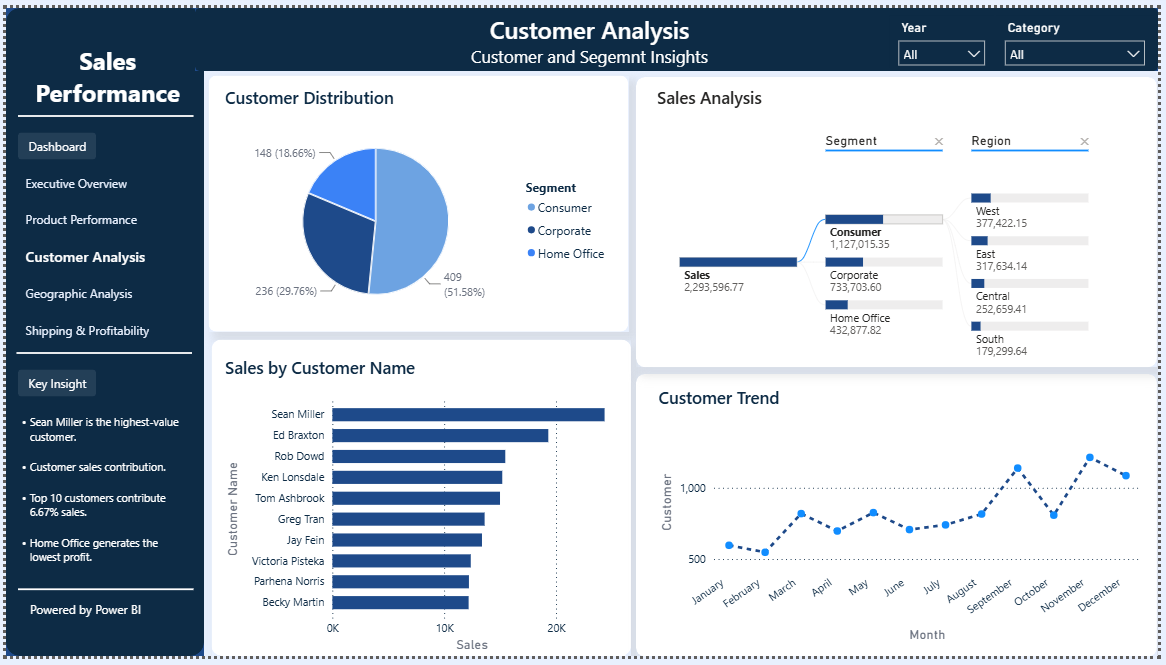

What the dashboard file says about the page in this screenshot:
{"tool":"powerbi","page":{"name":"Customer Analysis","canvas":[1280,720],"ordinal":2},"visuals":[{"type":"shape","box":[0,0,220,720],"z":0},{"type":"shape","box":[225.6,75.7,466.4,284.7],"z":1000},{"type":"shape","box":[227.5,368.8,466.2,351.2],"z":2000},{"type":"shape","box":[700,406.2,578.8,313.8],"z":3000},{"type":"shape","box":[700,76.2,578.8,322.5],"z":4000},{"type":"shape","box":[210,0,1070,70],"z":5000},{"type":"pieChart","title":"Customer Distribution","fields":{"Y":["Count(Sample___Superstore.Customer ID)"],"Category":["Sample___Superstore.Segment"]},"box":[237.5,86.2,441.2,265],"z":6000},{"type":"clusteredBarChart","fields":{"Category":["Sample___Superstore.Customer Name"],"Y":["Sum(Sample___Superstore.Sales)"]},"box":[237.7,386.1,449.7,333.1],"z":7000},{"type":"decompositionTreeVisual","title":"Sales Analysis","fields":{"Analyze":["Sum(Sample___Superstore.Sales)"],"ExplainBy":["Sample___Superstore.Segment","Sample___Superstore.Region"]},"box":[718.8,86.2,556.2,350],"z":8000},{"type":"areaChart","title":"Customer Trend","fields":{"Y":["CountNonNull(Sample___Superstore.Customer ID)"],"Category":["Sample___Superstore.ad_date.Variation.Date Hierarchy.Month"]},"box":[719.2,419.4,545.1,289.2],"z":9000},{"type":"pageNavigator","box":[21.7,178.3,180,195],"z":10000},{"type":"textbox","box":[3.1,34.6,219.2,88.5],"z":11000},{"type":"textbox","box":[21.7,653.3,170,35],"z":12000},{"type":"shape","box":[12.5,110.8,195,16.7],"z":13000},{"type":"shape","box":[13.3,630,195,31.7],"z":14000},{"type":"textbox","box":[393.3,0,510,70],"z":15000},{"type":"slicer","fields":{"Values":["Sample___Superstore.Category"]},"box":[1100,7.5,175,58.8],"z":16000},{"type":"slicer","fields":{"Values":["Sample___Superstore.ad_date.Variation.Date Hierarchy.Year"]},"box":[981.2,7.6,116.6,59.1],"z":17000},{"type":"textbox","box":[15.8,137.5,80.8,30],"z":18000},{"type":"textbox","box":[15.8,400.8,80.8,30],"z":19000},{"type":"textbox","box":[2.9,447.1,207.1,182.9],"z":20000},{"type":"shape","box":[12.5,138.3,86.7,30],"z":21000},{"type":"shape","box":[13.3,401.7,86.7,30],"z":22000},{"type":"shape","box":[11.7,368.3,195,30],"z":23000}]}

Visuals, with their boxes in screenshot pixels (x1, y1, x2, y2), scaled from the page's 1280x720 canvas onto the 1166x665 screenshot:
shape: rect(0, 0, 200, 664)
shape: rect(206, 70, 630, 333)
shape: rect(207, 341, 632, 664)
shape: rect(638, 375, 1165, 664)
shape: rect(638, 70, 1165, 368)
shape: rect(191, 0, 1165, 65)
"Customer Distribution" pieChart: rect(216, 80, 618, 324)
clusteredBarChart - Sample___Superstore.Customer Name x Sum(Sample___Superstore.Sales): rect(217, 357, 626, 664)
"Sales Analysis" decompositionTreeVisual: rect(655, 80, 1161, 403)
"Customer Trend" areaChart: rect(655, 387, 1152, 654)
pageNavigator: rect(20, 165, 184, 345)
textbox: rect(3, 32, 203, 114)
textbox: rect(20, 603, 175, 636)
shape: rect(11, 102, 189, 118)
shape: rect(12, 582, 190, 611)
textbox: rect(358, 0, 823, 65)
slicer - Sample___Superstore.Category: rect(1002, 7, 1161, 61)
slicer - Sample___Superstore.ad_date.Variation.Date Hierarchy.Year: rect(894, 7, 1000, 62)
textbox: rect(14, 127, 88, 155)
textbox: rect(14, 370, 88, 398)
textbox: rect(3, 413, 191, 582)
shape: rect(11, 128, 90, 155)
shape: rect(12, 371, 91, 399)
shape: rect(11, 340, 188, 368)
